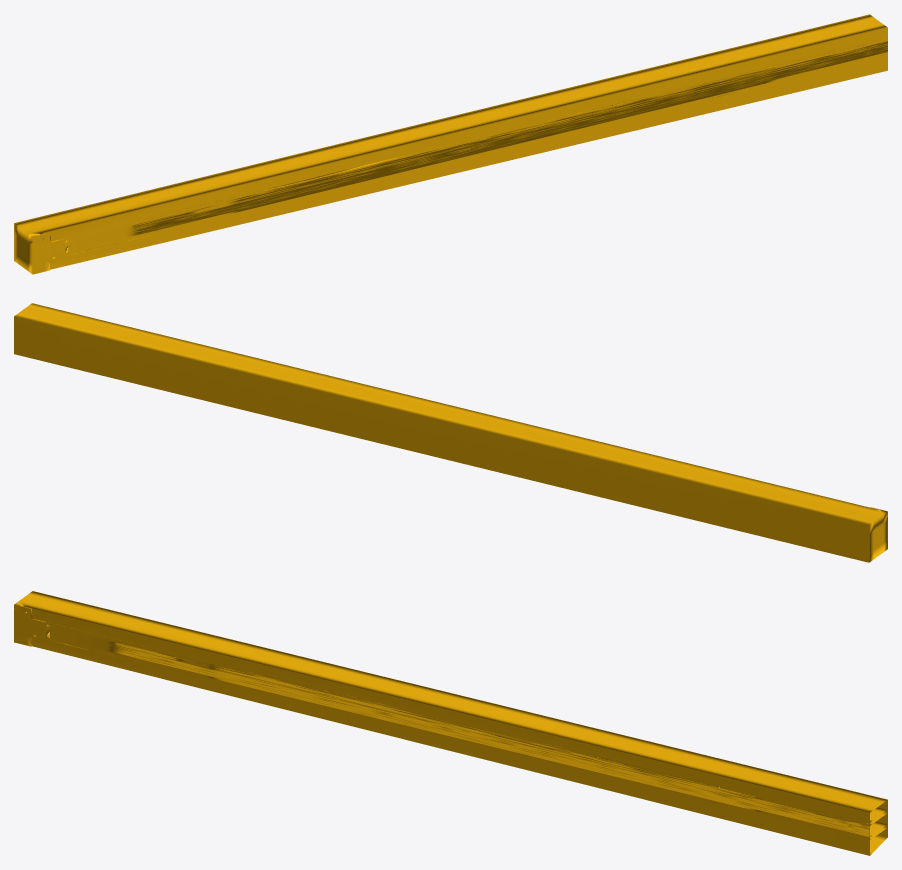
File: side_gate.dae
3 renders of one model, top to bottom at view 1: azimuth 30°, elevation 25°; view 2: azimuth 150°, elevation 25°; view 3: azimuth 330°, elevation 25°, orthographic.
Visible parts, largest first — view 1: Plane.007; view 2: Plane.007; view 3: Plane.007.
Part boxes in pixels (<box>): Plane.007: <box>14,14,887,274</box>; Plane.007: <box>14,303,887,562</box>; Plane.007: <box>14,591,887,855</box>.
Size of the model in its own units: 0.5157 by 0.0196 by 0.0248.
